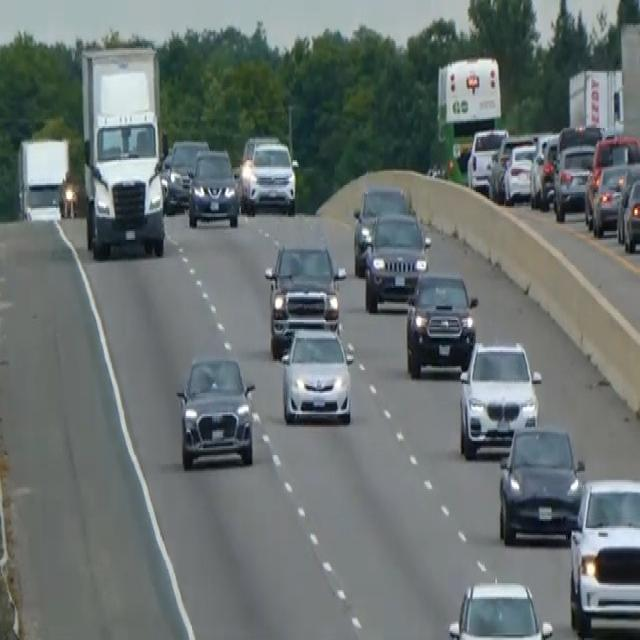car: (568, 475, 639, 638), (497, 421, 585, 546), (458, 338, 541, 458), (175, 352, 256, 469), (263, 240, 346, 354), (404, 268, 478, 377), (280, 323, 354, 425), (362, 210, 431, 313), (447, 578, 553, 638), (352, 182, 407, 276), (240, 137, 298, 215), (187, 146, 239, 228), (590, 160, 639, 236), (161, 137, 208, 211), (552, 140, 595, 220), (466, 124, 508, 194), (502, 138, 537, 204), (529, 133, 559, 210), (616, 172, 639, 252)
lorry: (78, 42, 167, 260)
motorcycle: (57, 176, 79, 219)
